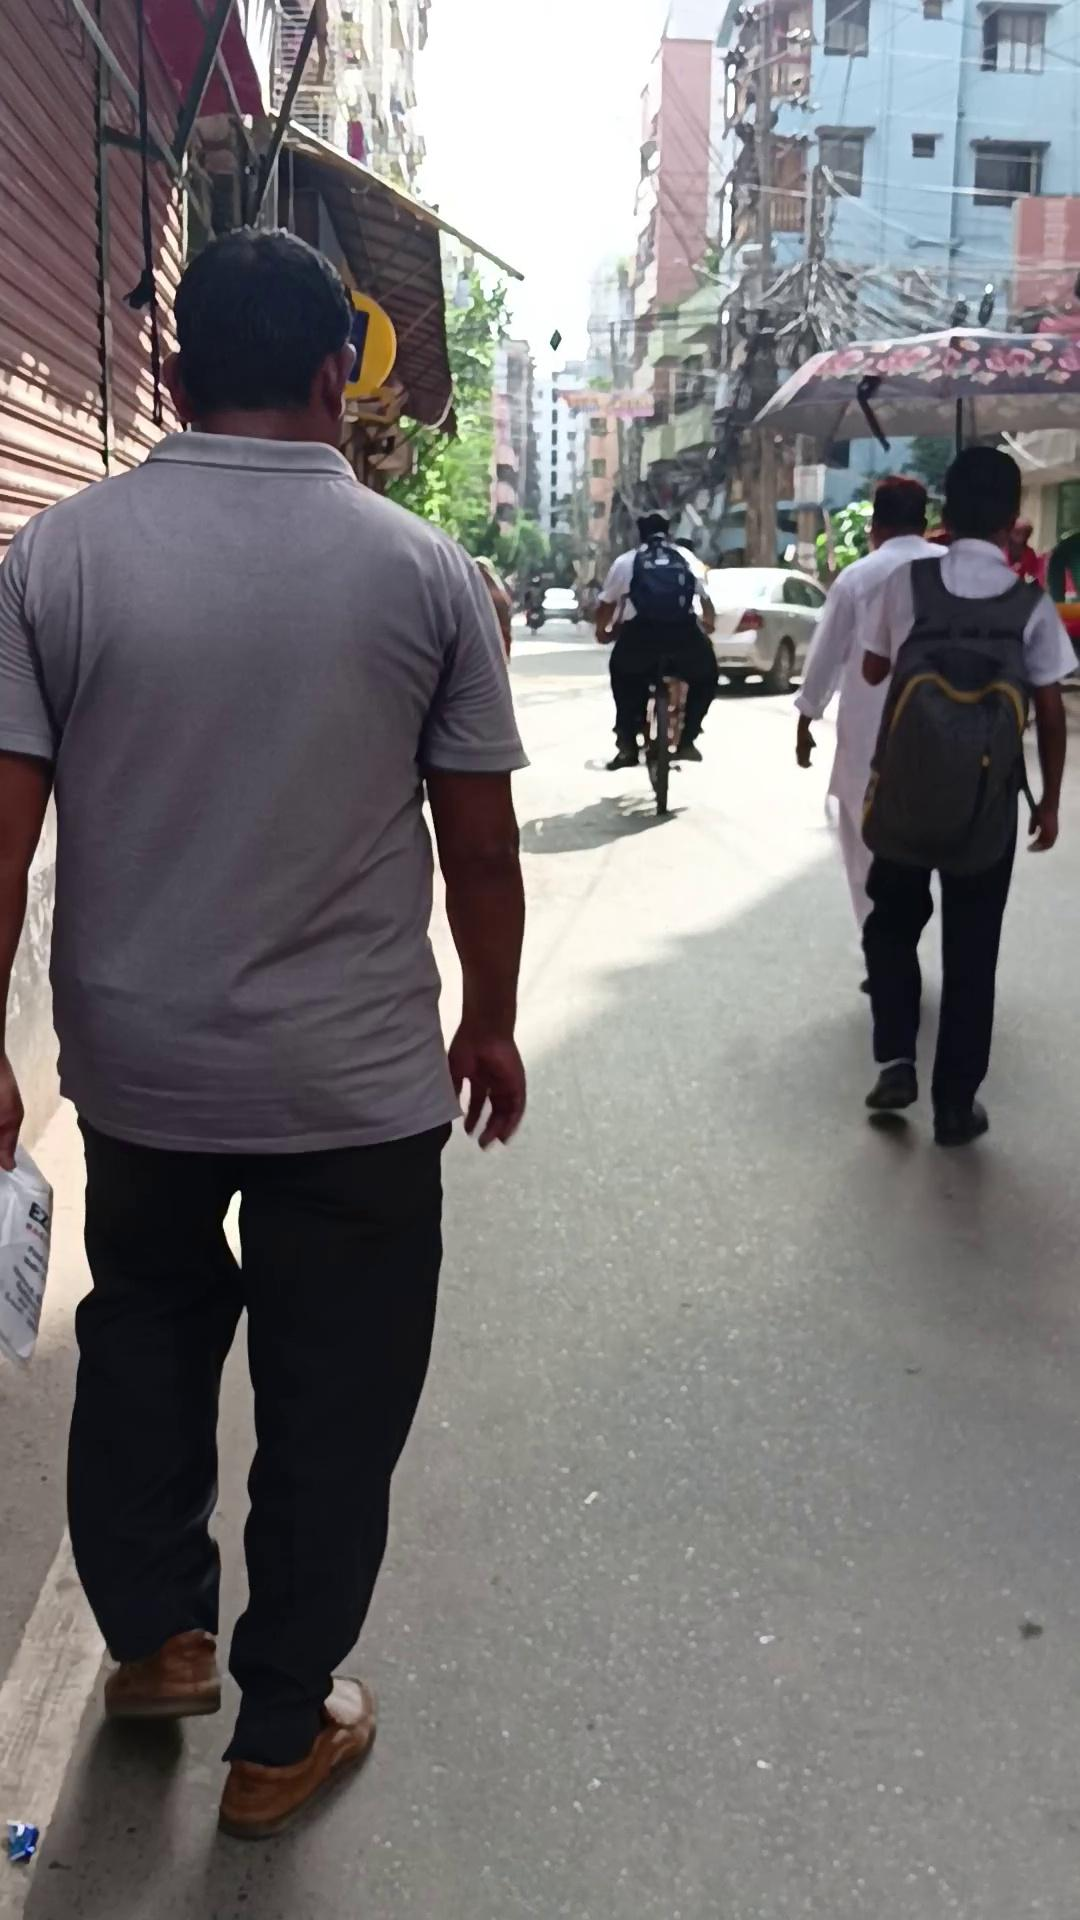Car: (698, 564, 828, 694)
Muddy road: (0, 223, 530, 1840), (853, 444, 1077, 1147), (793, 473, 949, 947), (592, 512, 717, 769)
